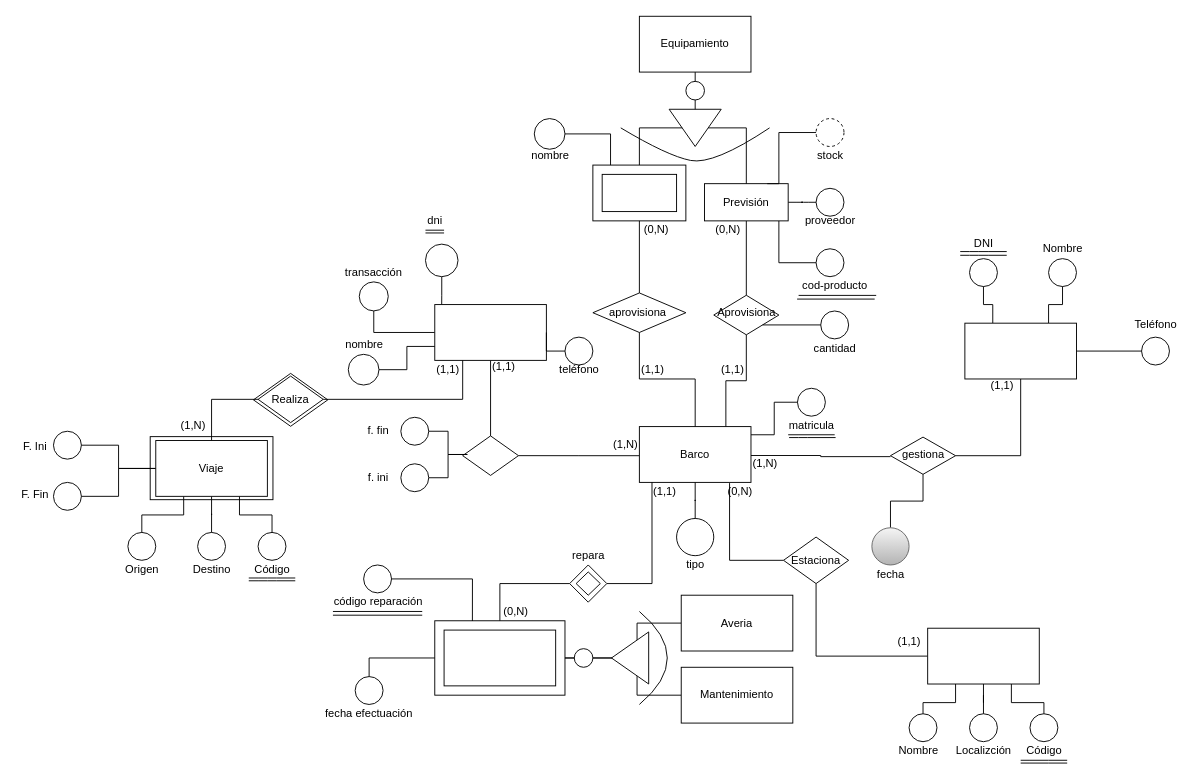
This 1199x780 diagram has some shape labels left out. Each missing label, with the box of its shape:
alquila: (462, 435, 518, 475)
Cliente: (434, 304, 546, 360)
Fijo: (601, 173, 677, 212)
Propietario: (964, 322, 1076, 379)
Puerto: (927, 627, 1039, 684)
Reparación: (443, 629, 556, 686)
